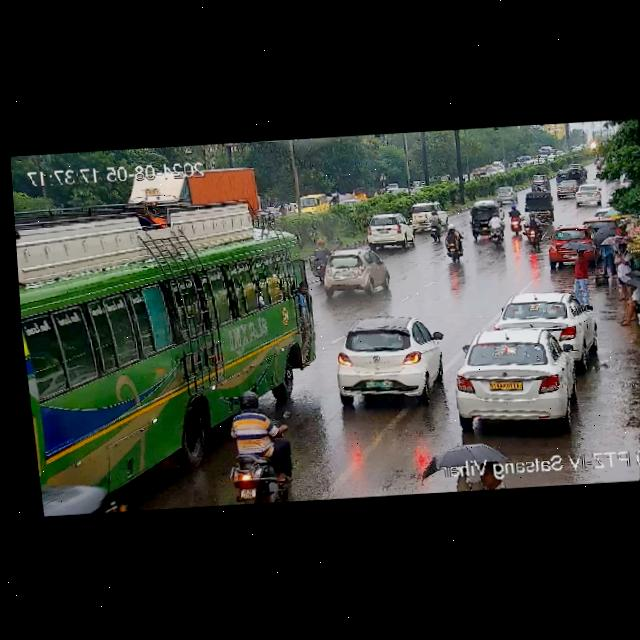bus: (14, 213, 328, 514), (292, 191, 327, 216)
car: (443, 326, 595, 428), (329, 317, 448, 406), (129, 164, 261, 216), (494, 290, 592, 353), (316, 250, 389, 299), (360, 216, 422, 252), (542, 226, 596, 265), (465, 205, 504, 240), (410, 199, 451, 231), (520, 191, 555, 219), (570, 186, 601, 206), (551, 182, 583, 199), (495, 185, 519, 202), (530, 175, 552, 192), (350, 185, 367, 205), (566, 168, 586, 183), (553, 168, 566, 182), (568, 163, 582, 169)
motorcycle: (216, 388, 307, 502), (305, 237, 331, 276), (445, 222, 467, 262), (480, 215, 506, 247), (521, 215, 544, 244), (426, 209, 443, 242), (507, 209, 525, 237), (535, 186, 541, 191)
person: (609, 242, 635, 297), (612, 280, 640, 326), (595, 230, 620, 281), (570, 248, 595, 297), (584, 212, 619, 231)
